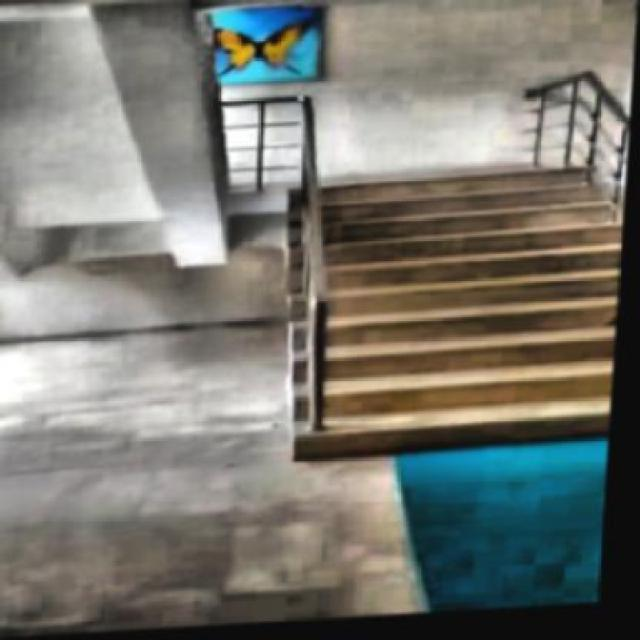stair: (282, 166, 628, 462)
